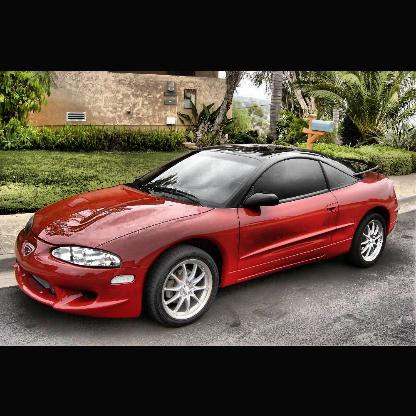Eagle Talon Hatchback 1998: (13, 144, 401, 325)
